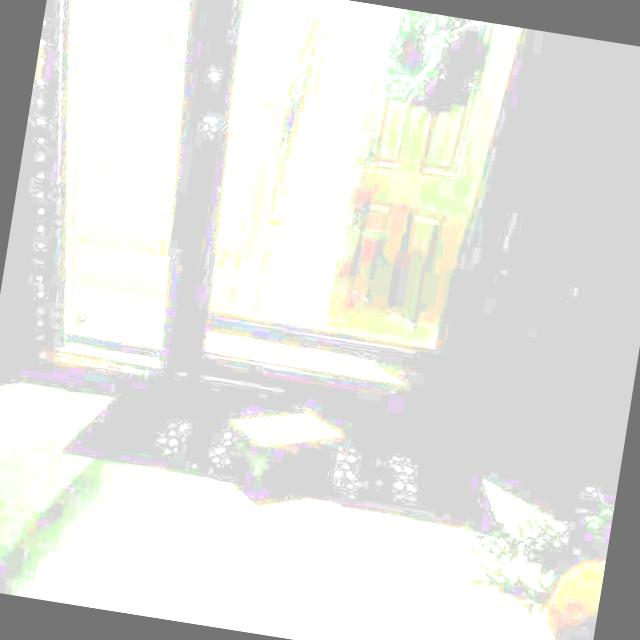Box: (223, 402, 342, 494)
